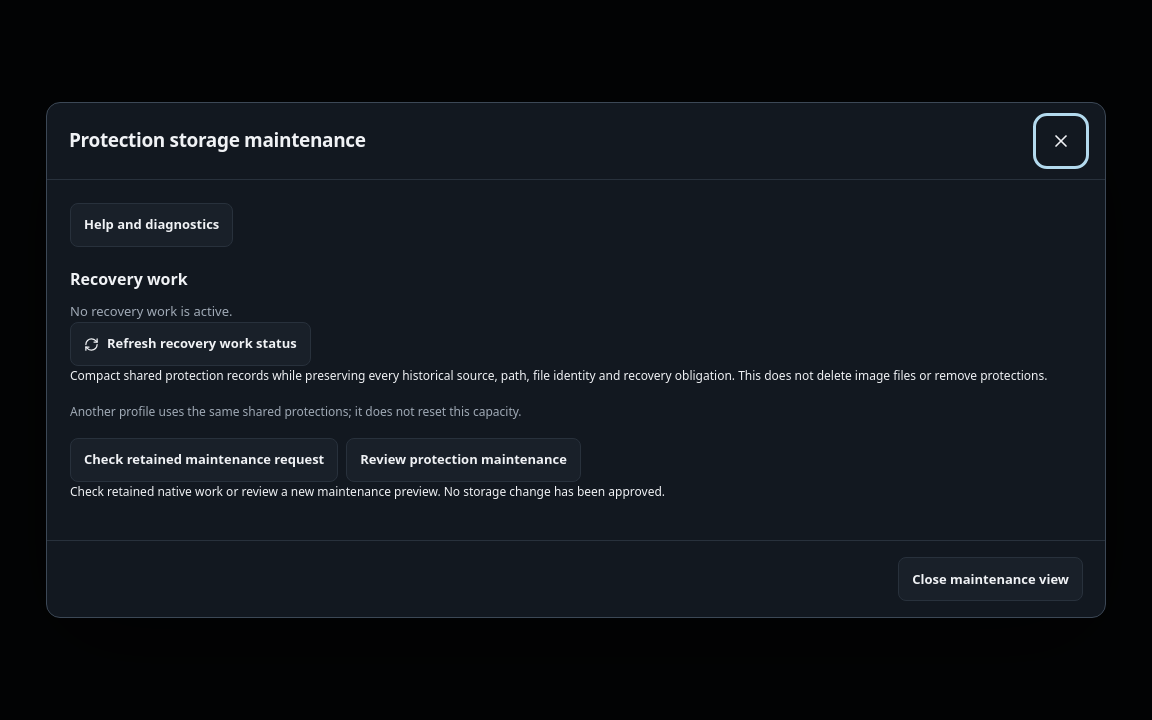
Test: rejects a preview from a different native renderer or profile
Click the button "Review protection maintenance". click: (464,460)
box: [346,438,581,482]
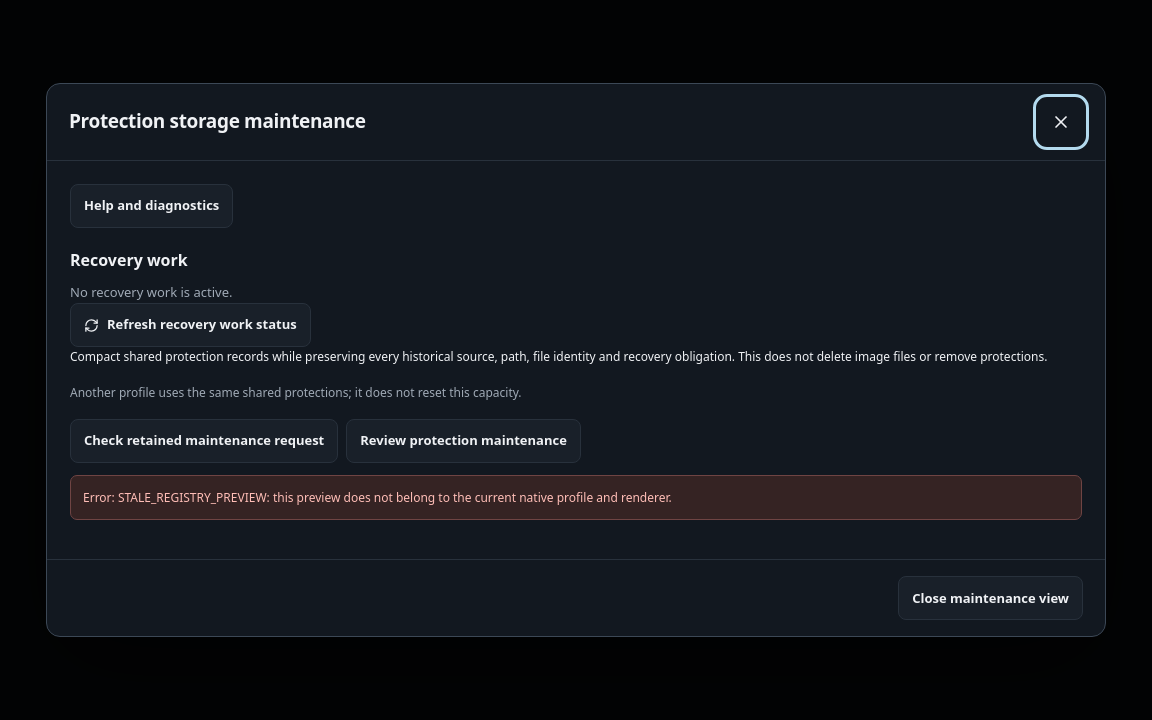
Expected: the message shows "STALE_REGISTRY_PREVIEW", [83,489,672,506]
